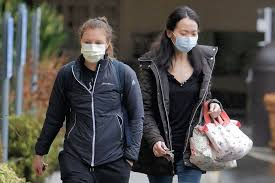masked: (165, 5, 200, 59), (80, 18, 111, 65)
